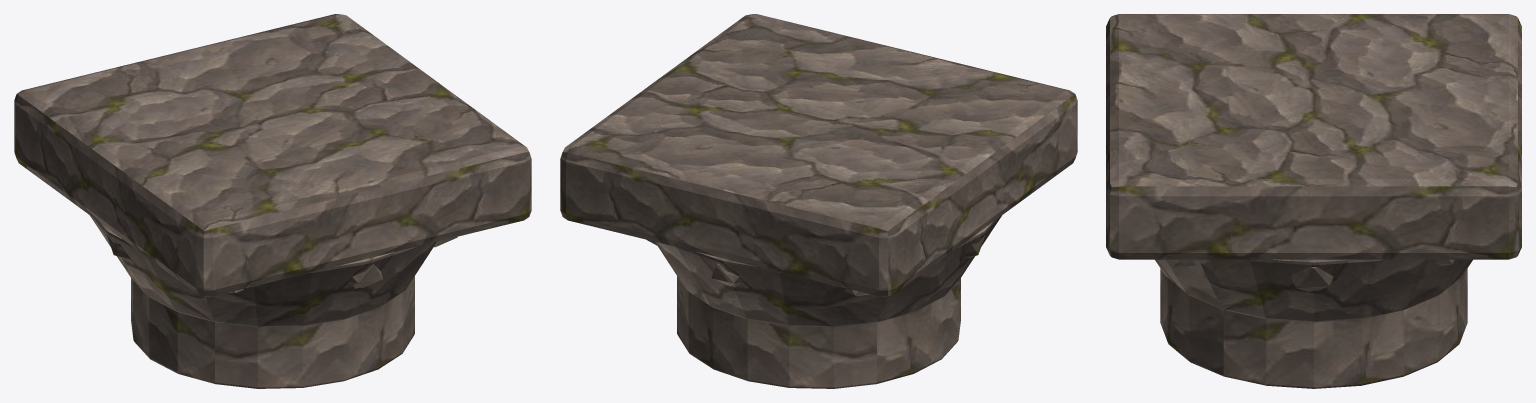
Rendered from column_capital__cut_stone.glb.
3 views of the same model, side by side, from view 1: azimuth 30°, elevation 25°; view 2: azimuth 150°, elevation 25°; view 3: azimuth 270°, elevation 25° (orthographic). The views are drawn at different scales.
Visible parts, largest first — view 1: model; view 2: model; view 3: model.
Part boxes in pixels (box(x1,y1,x2,y2)): model: box(14, 14, 531, 388); model: box(560, 14, 1077, 388); model: box(1106, 14, 1521, 388).
Size of the model in its own units: 0.8 by 0.485 by 0.8.
Materials: 1 (1 with a texture image).
